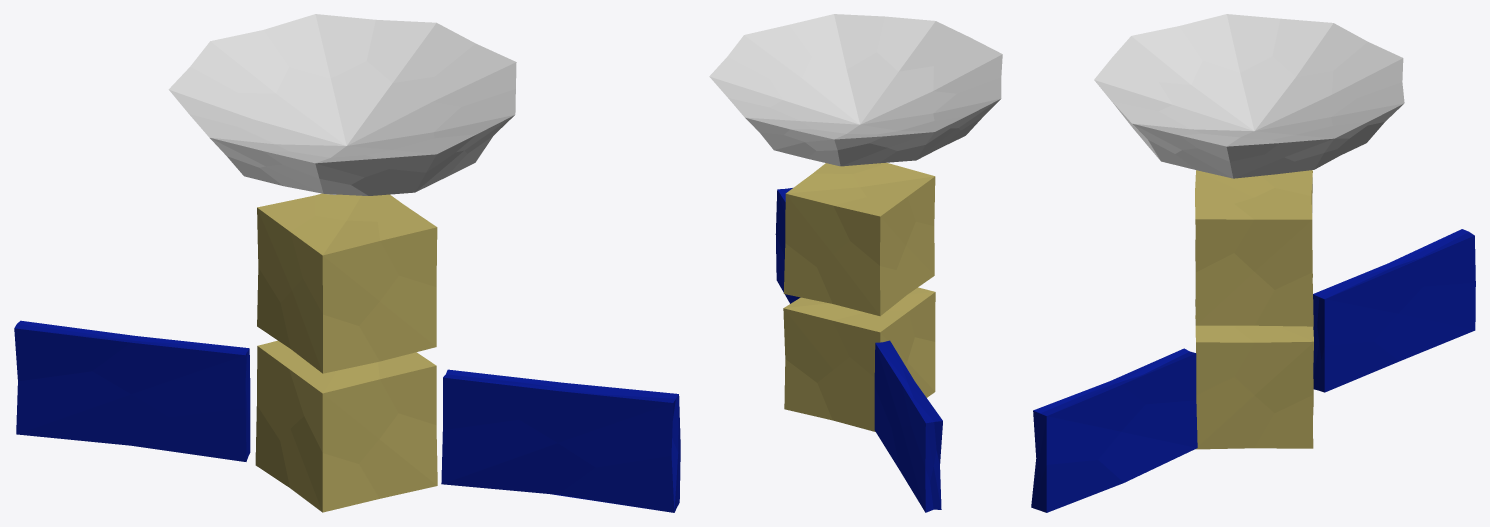
File: Satellite.gltf
3 renders of one model, left to right at view 1: azimuth 30°, elevation 25°; view 2: azimuth 150°, elevation 25°; view 3: azimuth 270°, elevation 25°, orthographic. The views are drawn at different scales.
Visible parts, largest first — view 1: Satellite; view 2: Satellite; view 3: Satellite.
Part boxes in pixels (x1,y1,x2,y2): Satellite: [14, 14, 680, 512]; Satellite: [709, 14, 1002, 512]; Satellite: [1031, 14, 1475, 512].
Bounding box in the file's own units: 0.8236 × 0.7046 × 0.8235.
